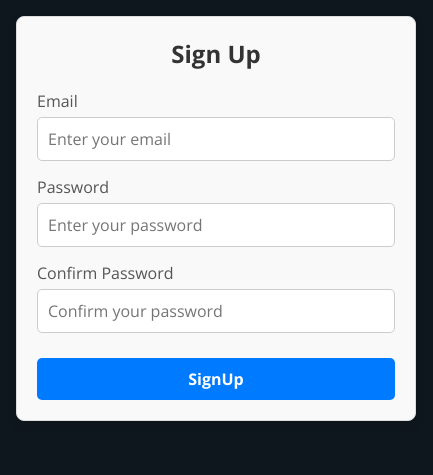
Test: SignUpForm › displays error message when signUpWithEmailAndPassword fails
// Simulate user input for email, password, and confirmPassword
Type "test@example.com" into the field labelled "Email" at (216, 139), box x1=37 y1=117 x2=395 y2=161
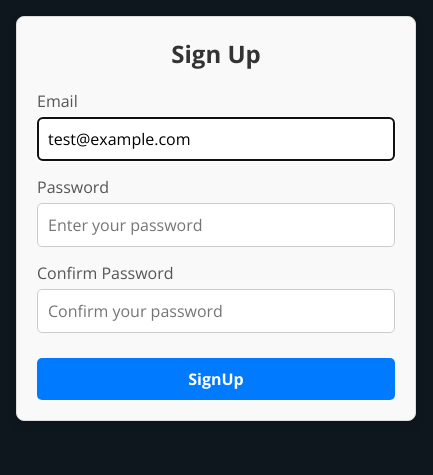
Type "password123" into the password field with placeholder "Enter your password" at (216, 225), box x1=37 y1=203 x2=395 y2=247
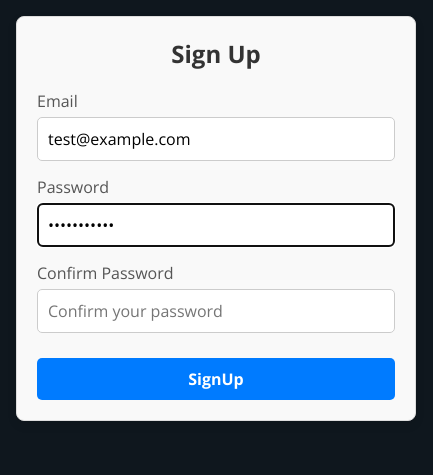
Type "password123" into the password field with placeholder "Confirm your password" at (216, 311), box x1=37 y1=289 x2=395 y2=333
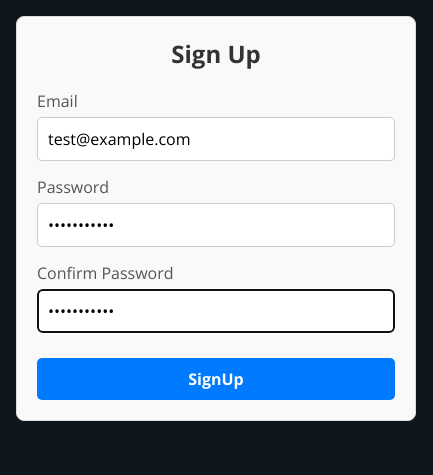
// Simulate form submission
Click the button "SignUp" at (216, 379), box x1=37 y1=358 x2=395 y2=400
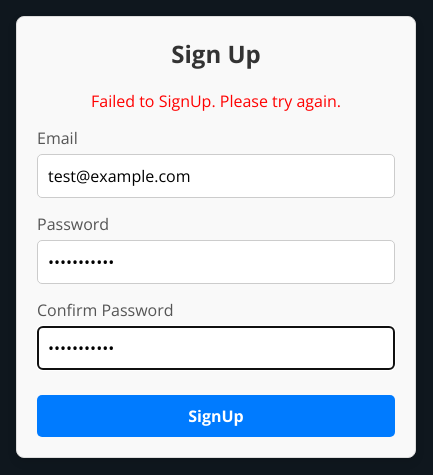
expect the text "Failed to SignUp. Please try again." is shown: met, box x1=91 y1=90 x2=341 y2=112
